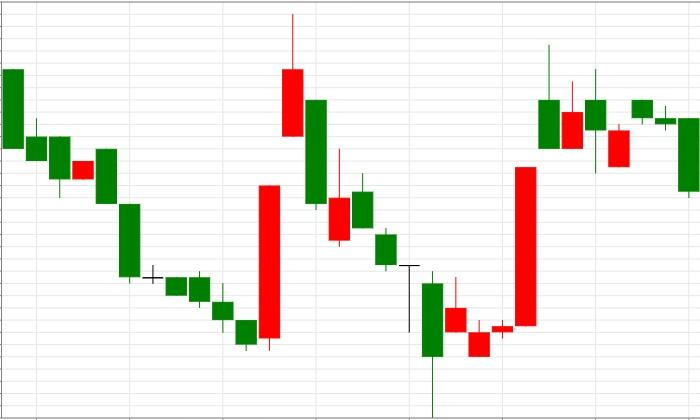bullish_engulfing_rise: (2, 68, 281, 351)
